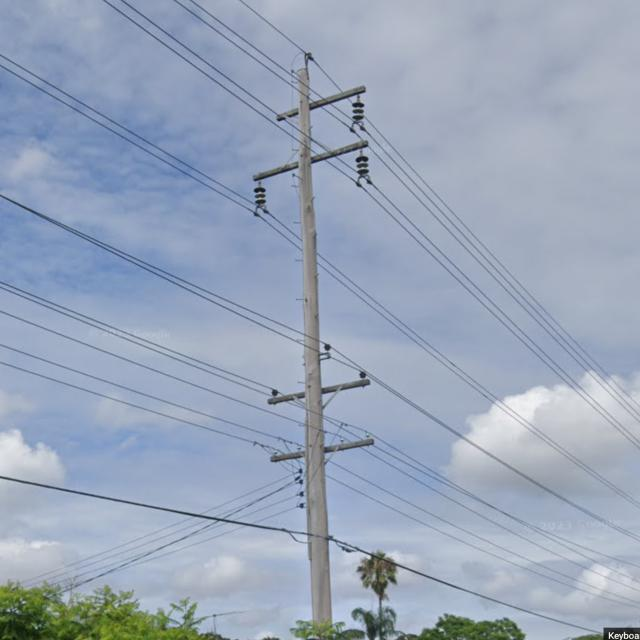HV-transmission: (253, 52, 371, 216), (268, 343, 368, 405)
crossarm: (253, 138, 369, 181), (275, 84, 366, 121), (268, 377, 372, 405), (271, 438, 373, 462)
timber-pole: (296, 70, 332, 633)
